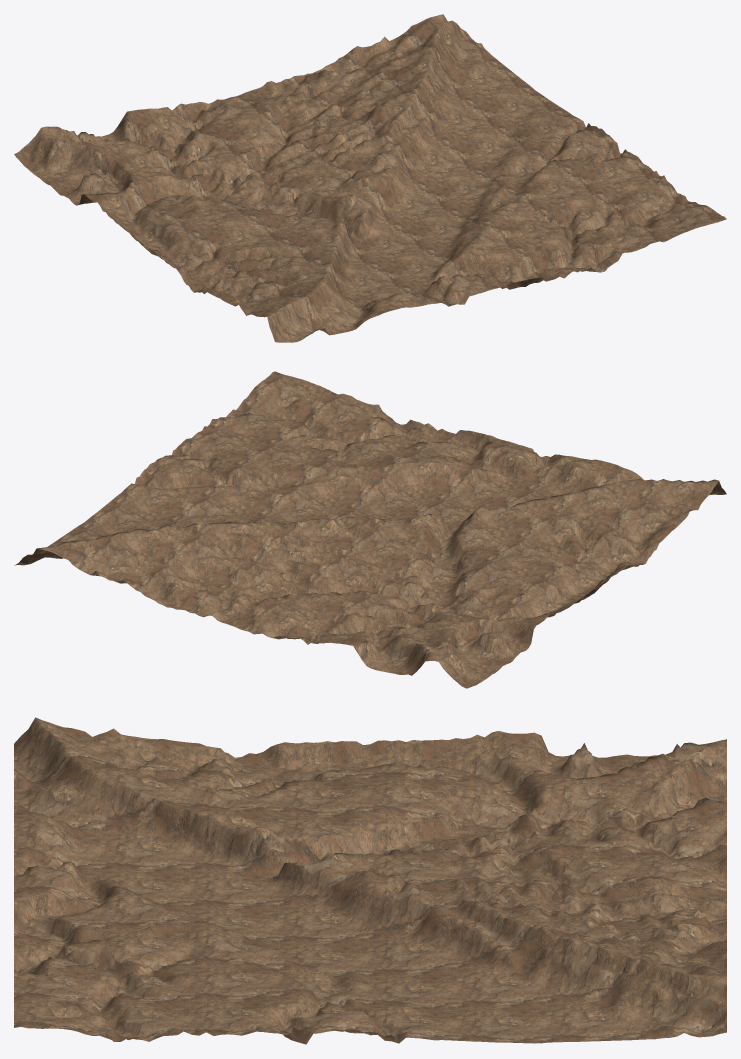
Rendered from rocky_terrain_low_poly.glb.
3 views of the same model, one above another, from view 1: azimuth 30°, elevation 25°; view 2: azimuth 150°, elevation 25°; view 3: azimuth 270°, elevation 25° (orthographic). The views are drawn at different scales.
Visible parts, largest first — view 1: terrain_0; view 2: terrain_0; view 3: terrain_0.
Boxes of the visible parts, box(x1,y1,x2,y2) form: terrain_0: box(14, 14, 726, 342); terrain_0: box(14, 371, 726, 688); terrain_0: box(14, 717, 726, 1044).
Bounding box in the file's own units: 400 × 36 × 400.
1 material, 1 textured.
